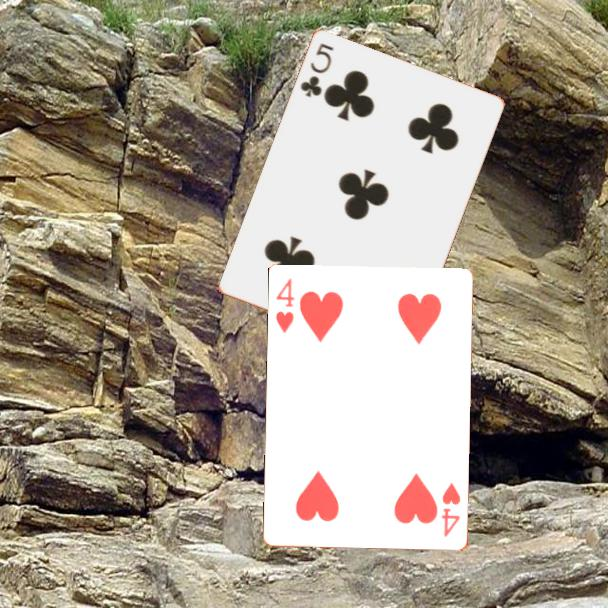c05: (297, 40, 337, 101)
h04: (438, 479, 463, 540), (273, 275, 297, 336)
